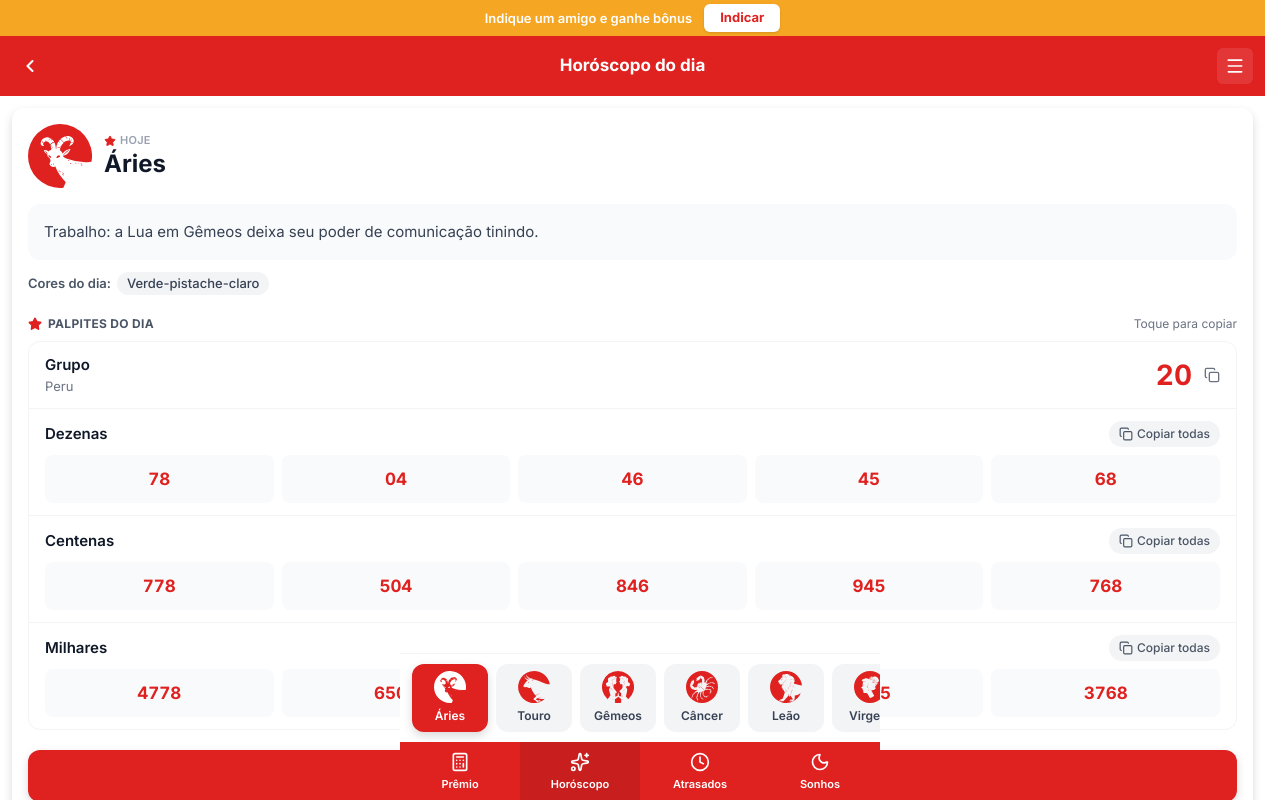
Test: Horóscopo › previsão do provedor: texto, cores, as 5 dezenas dele e o grupo da 1ª dezena; signo sem previsão usa a local
The width and height of the screenshot is (1280, 800).
Expected: the text "Trabalho: a Lua em Gêmeos deixa seu poder de comunicação tinindo." is shown, [28, 204, 1237, 260]
Expected: the list items read "78", "04", "46", "45", "68", in this order, [45, 455, 274, 503]; [282, 455, 510, 503]; [518, 455, 747, 503]; [755, 455, 983, 503]; [991, 455, 1220, 503]
What coordinates should you click on to do the following:
click the button "Touro"
I would click on:
 (534, 698)
Its box is [496, 664, 572, 732].
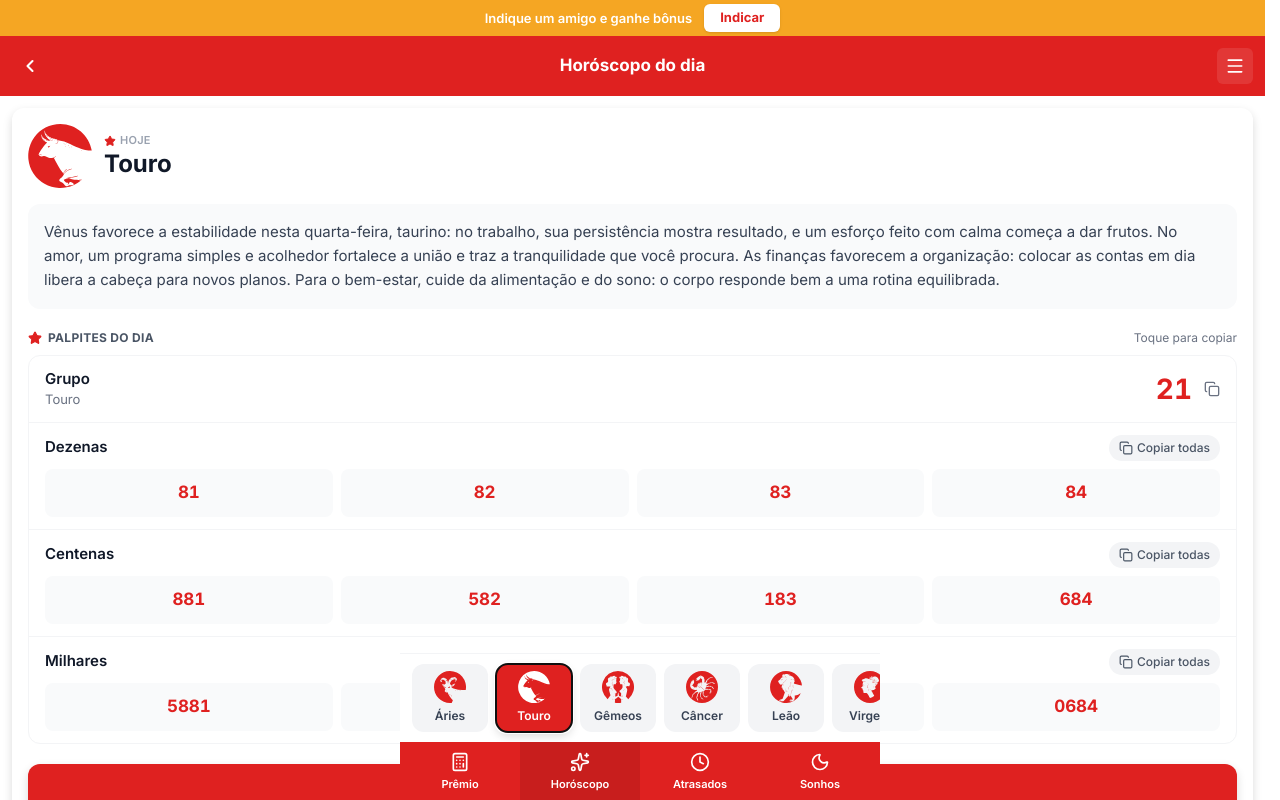
Now the text "Cores do dia:" is gone
